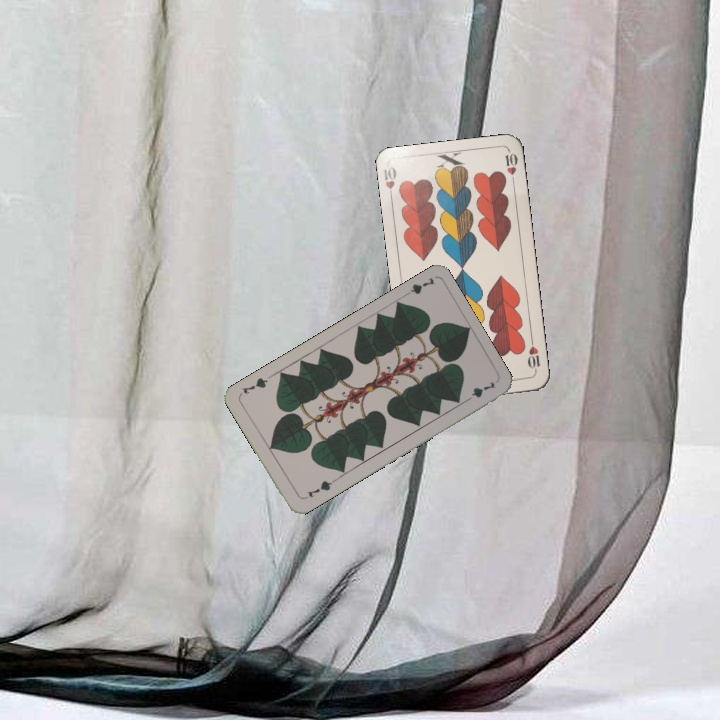G7: (398, 273, 438, 300), (303, 476, 336, 500)
H10: (523, 335, 543, 376), (380, 163, 399, 203)
